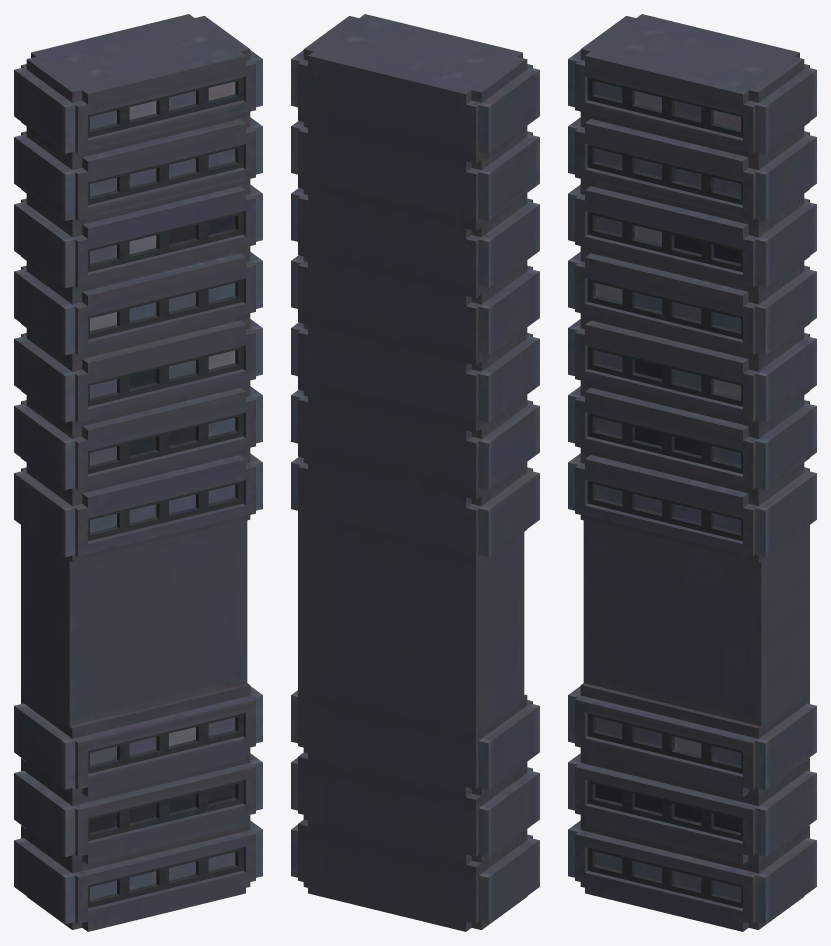
Rendered from Building_3.glb.
The picture shows the model from 3 angles, left to right: view 1: azimuth 30°, elevation 25°; view 2: azimuth 150°, elevation 25°; view 3: azimuth 330°, elevation 25°; orthographic projection.
Parts seen in each view (by area): view 1: Building_3; view 2: Building_3; view 3: Building_3.
Part boxes in pixels (left/top/right/bottom): Building_3: left=14, top=14, right=262, bottom=931; Building_3: left=291, top=14, right=539, bottom=931; Building_3: left=568, top=14, right=816, bottom=931.
Bounding box in the file's own units: 4 × 16.2 × 2.
Materials: 1 (1 with a texture image).
